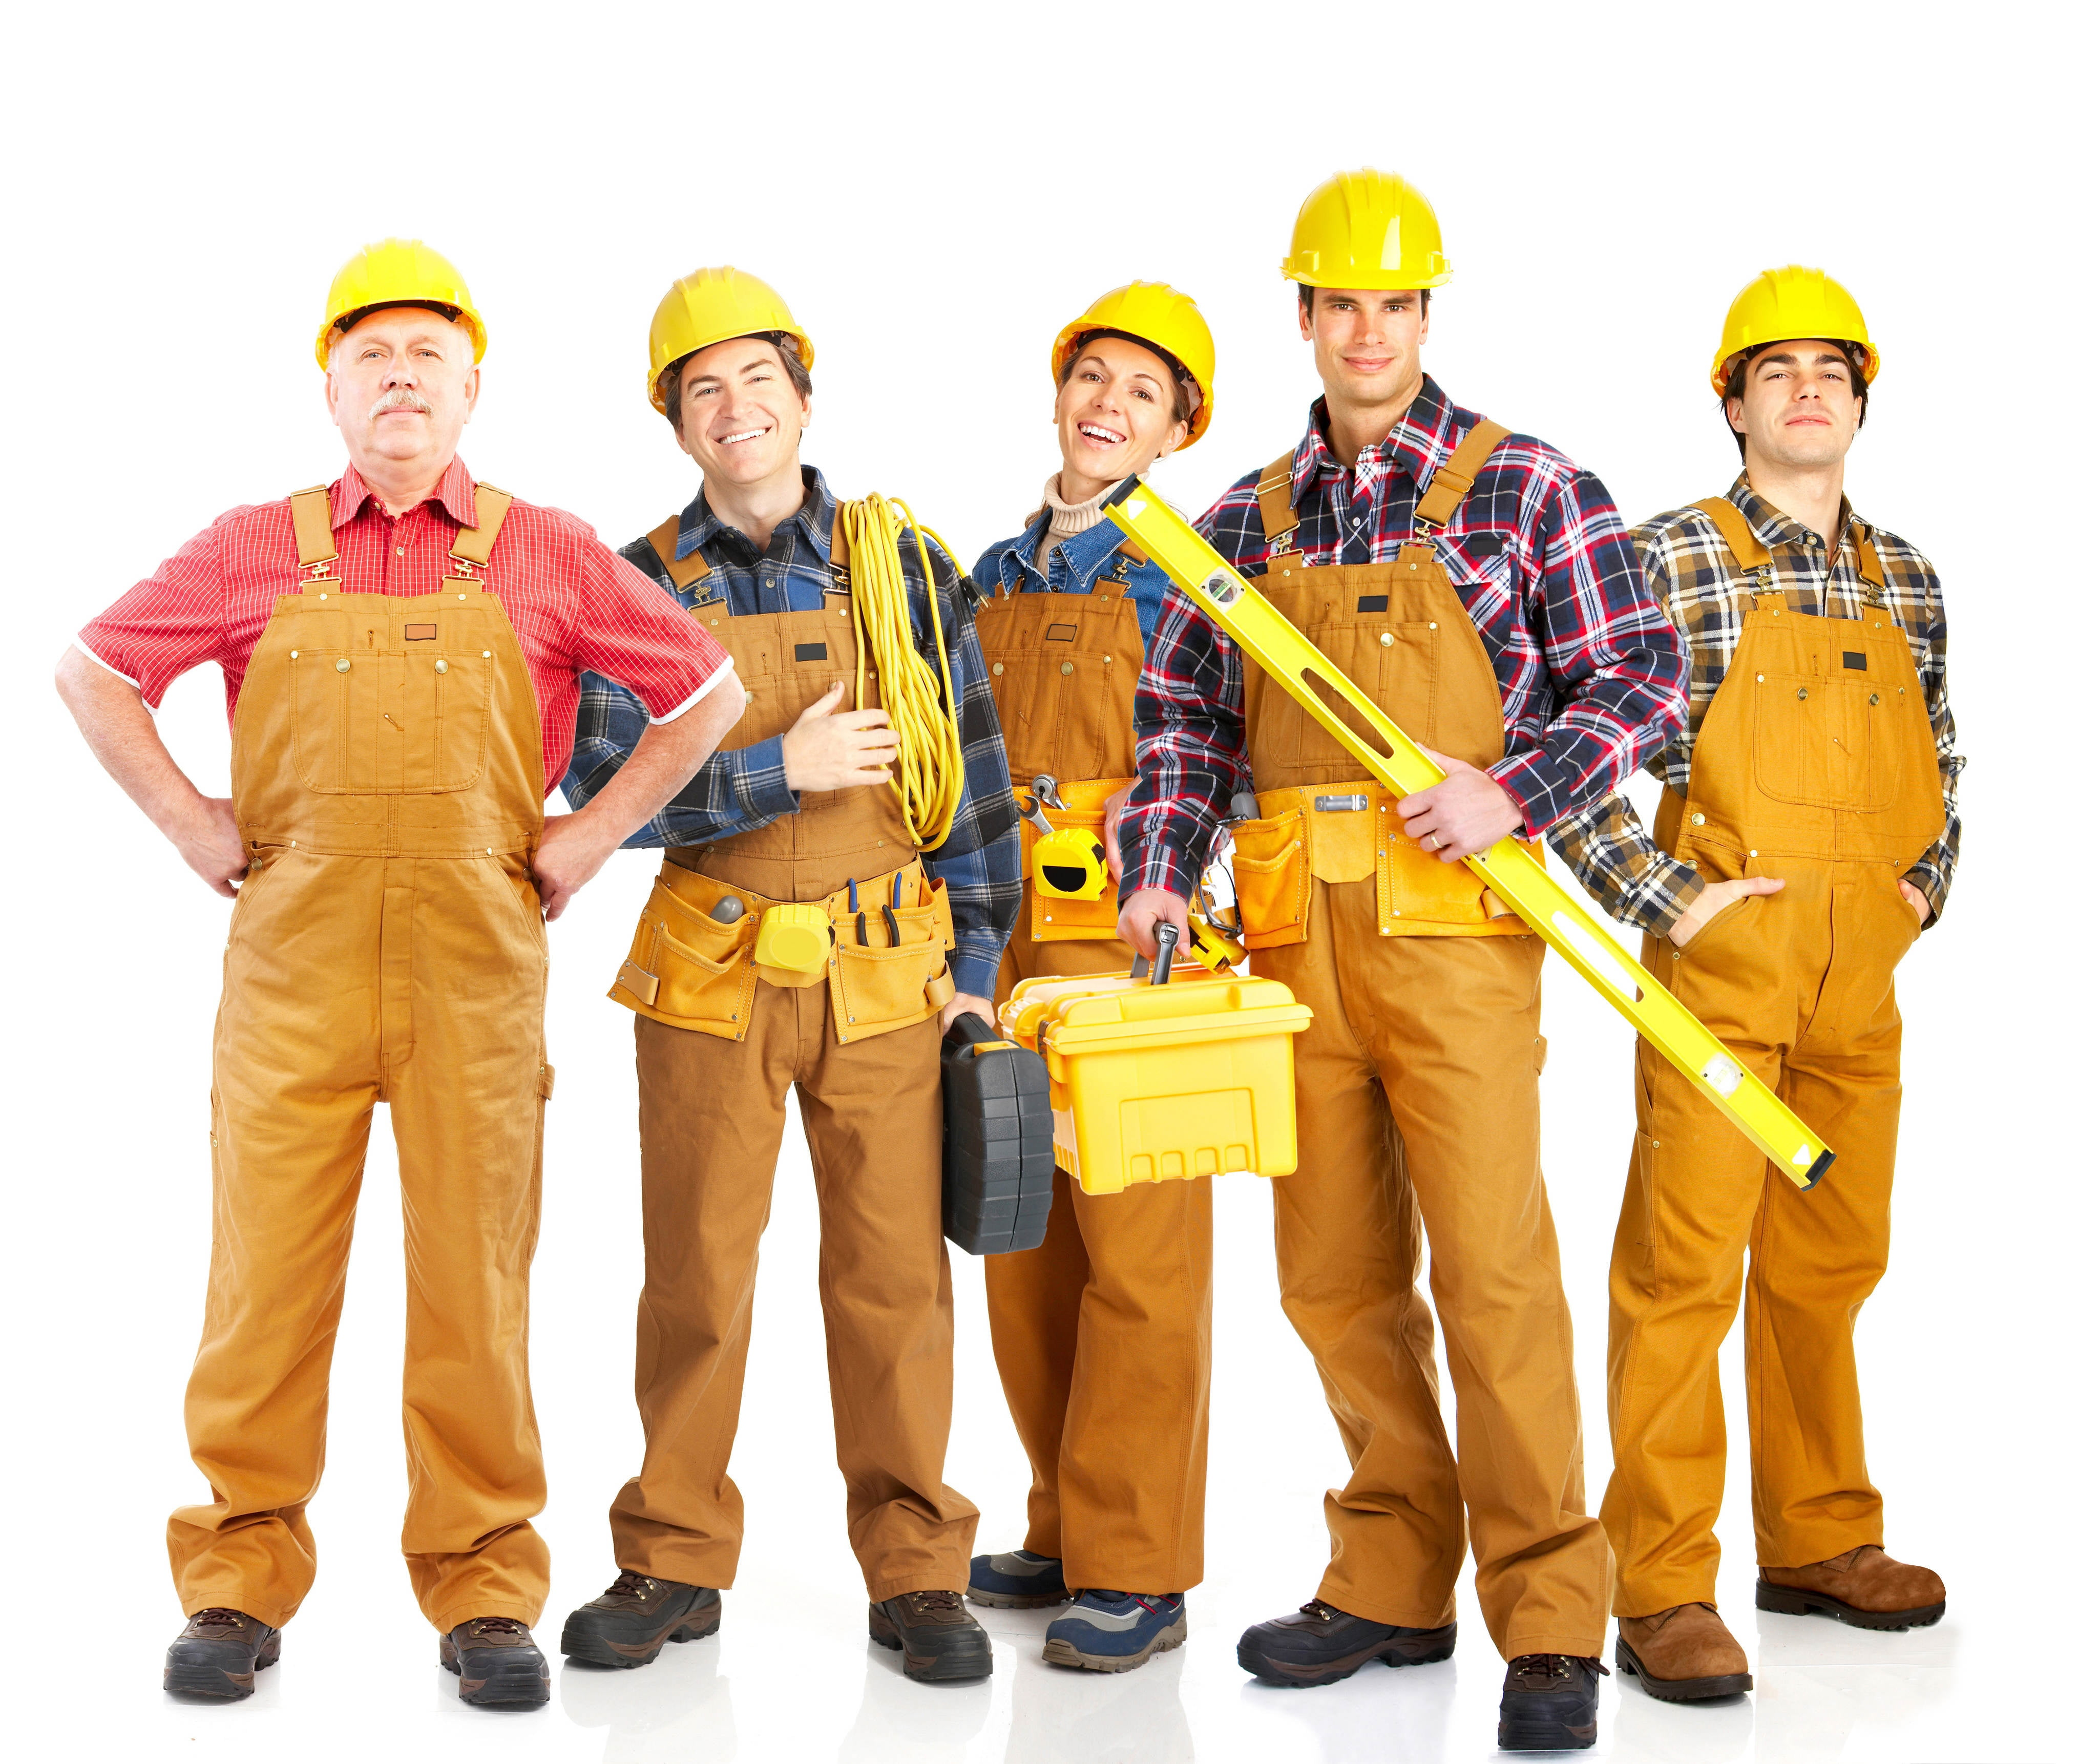Person_wearing_helmet: (1686, 247, 1901, 415), (1254, 146, 1470, 314), (281, 233, 497, 386), (631, 247, 818, 410), (1029, 247, 1216, 395)
